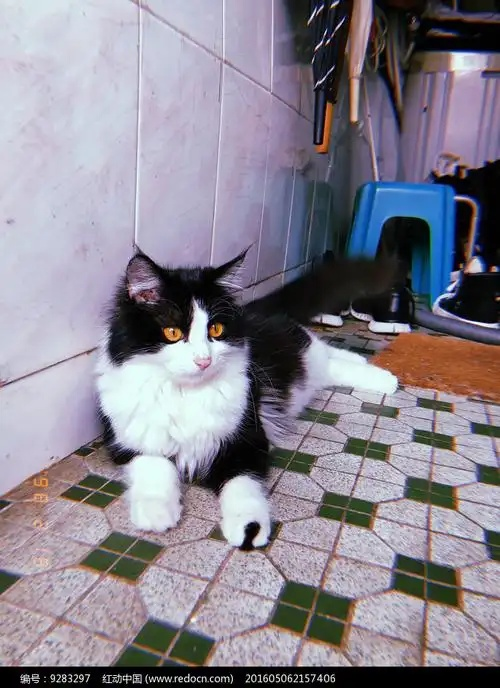奶牛猫: (97, 252, 303, 546)
